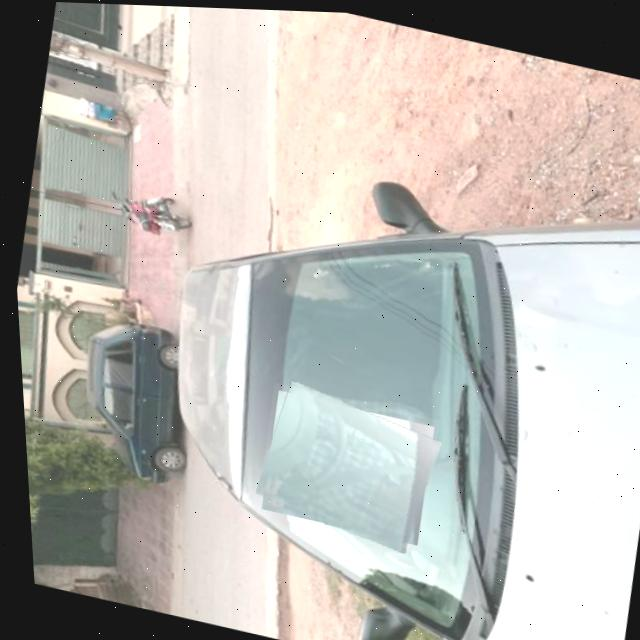seatbelt: (244, 379, 441, 548)
